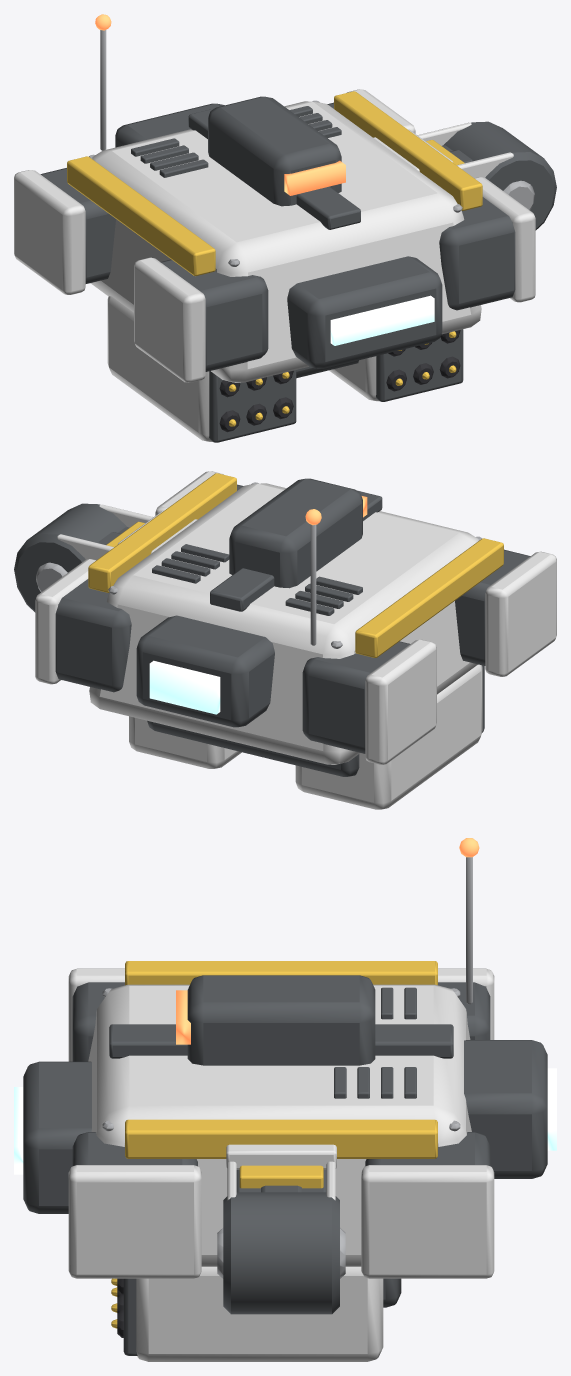
File: missile.glb
The picture shows the model from 3 angles, top to bottom: view 1: azimuth 30°, elevation 25°; view 2: azimuth 150°, elevation 25°; view 3: azimuth 270°, elevation 25°; orthographic projection. The views are drawn at different scales.
Visible parts, largest first — view 1: Hull, Barrel, Turret, LegUpper; view 2: Hull, Barrel, Turret, LegUpper; view 3: Hull, Barrel, LegUpper, Turret, LegLower.
Boxes of the visible parts, bbox=[...] form: Hull: bbox=[14, 14, 535, 382]; Barrel: bbox=[107, 296, 463, 442]; Turret: bbox=[208, 96, 345, 206]; LegUpper: bbox=[373, 121, 556, 230]; Hull: bbox=[35, 471, 556, 776]; Barrel: bbox=[129, 664, 484, 809]; Turret: bbox=[229, 478, 367, 588]; LegUpper: bbox=[14, 503, 197, 612]; Hull: bbox=[14, 838, 556, 1307]; Barrel: bbox=[111, 1266, 383, 1361]; LegUpper: bbox=[217, 1144, 345, 1314]; Turret: bbox=[176, 975, 375, 1065]; LegLower: bbox=[239, 1165, 323, 1192].
Size of the model in its own units: 0.787 by 0.558 by 0.694.
